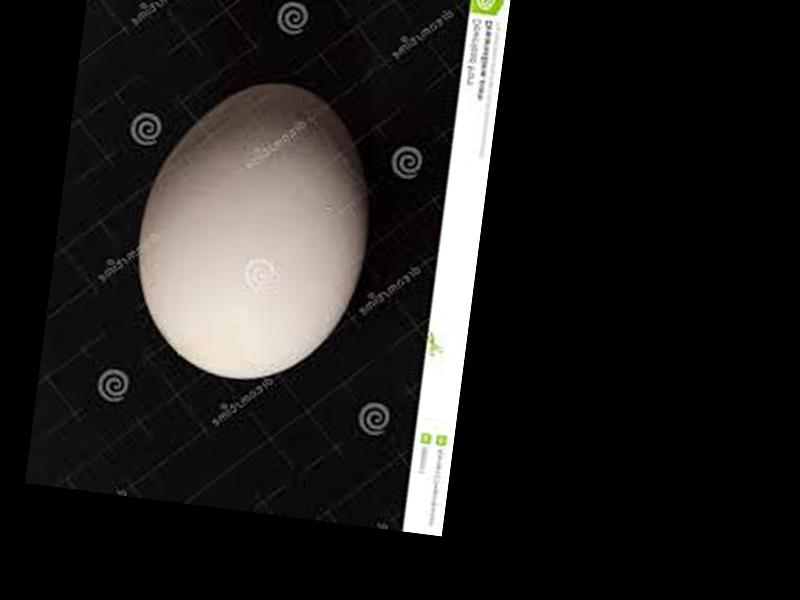Eggs: (123, 67, 384, 395)
